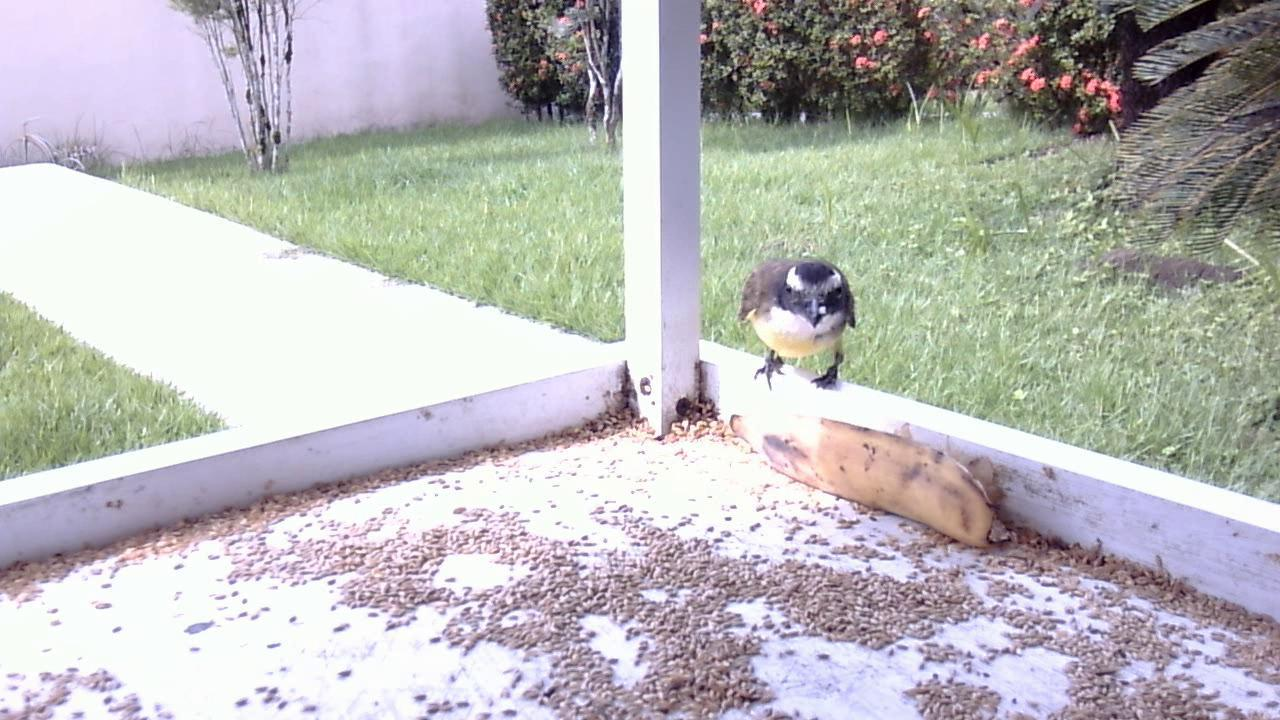bem_te_vi: (732, 254, 857, 400)
